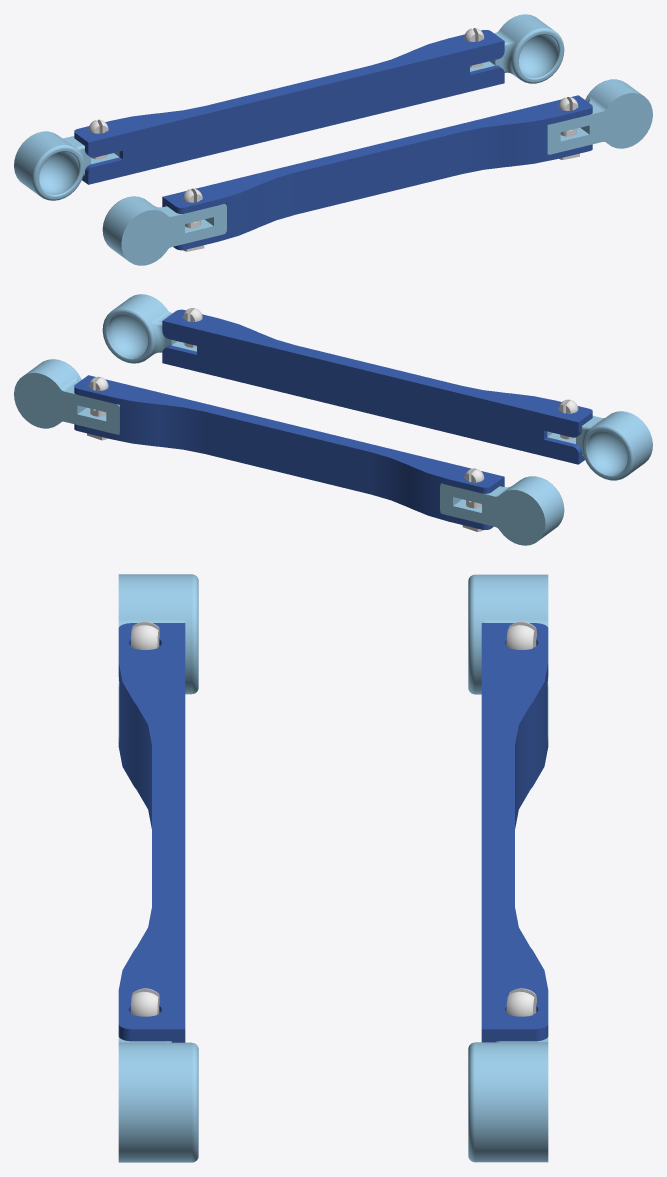
Rendered from rod.obj.
The picture shows the model from 3 angles, top to bottom: view 1: azimuth 30°, elevation 25°; view 2: azimuth 150°, elevation 25°; view 3: azimuth 270°, elevation 25°; orthographic projection. The views are drawn at different scales.
Visible parts, largest first — view 1: mesh82, mesh69, mesh24, mesh66, mesh4, mesh0, mesh67, mesh76, mesh65, mesh61, mesh3, mesh41 (+3 smaller); view 2: mesh82, mesh69, mesh24, mesh66, mesh4, mesh0, mesh65, mesh61, mesh67, mesh76, mesh3, mesh1 (+3 smaller); view 3: mesh69, mesh4, mesh3, mesh35, mesh65, mesh67, mesh61, mesh76.
Boxes of the visible parts, x1,y1,x2,y2 form: mesh82: [88, 41, 504, 184]; mesh69: [74, 30, 592, 207]; mesh24: [121, 93, 652, 265]; mesh66: [296, 132, 461, 214]; mesh4: [14, 14, 643, 261]; mesh0: [39, 34, 558, 194]; mesh67: [461, 124, 506, 173]; mesh76: [510, 117, 555, 166]; mesh65: [258, 172, 295, 227]; mesh61: [218, 186, 255, 241]; mesh3: [32, 27, 616, 239]; mesh41: [94, 34, 579, 251]; mesh82: [162, 321, 578, 464]; mesh69: [74, 309, 592, 487]; mesh24: [14, 372, 545, 545]; mesh66: [205, 412, 370, 494]; mesh4: [25, 294, 652, 539]; mesh0: [108, 314, 627, 474]; mesh65: [160, 404, 205, 453]; mesh61: [111, 397, 156, 446]; mesh67: [371, 452, 408, 506]; mesh76: [411, 466, 448, 521]; mesh3: [50, 307, 634, 519]; mesh1: [105, 313, 628, 476]; mesh69: [118, 623, 548, 1029]; mesh4: [118, 574, 548, 1162]; mesh3: [192, 574, 474, 1162]; mesh35: [130, 625, 534, 1016]; mesh65: [136, 706, 151, 828]; mesh67: [515, 706, 530, 828]; mesh61: [118, 663, 133, 785]; mesh76: [533, 663, 548, 785].
Size of the model in its own units: 0.1839 by 0.0191 by 0.0644.
